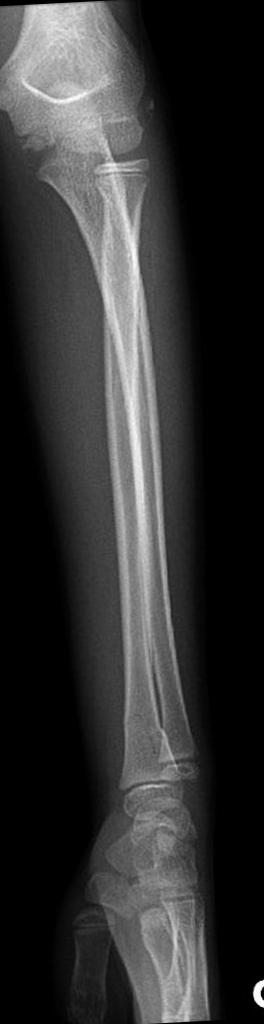line: (146, 728, 156, 754)
